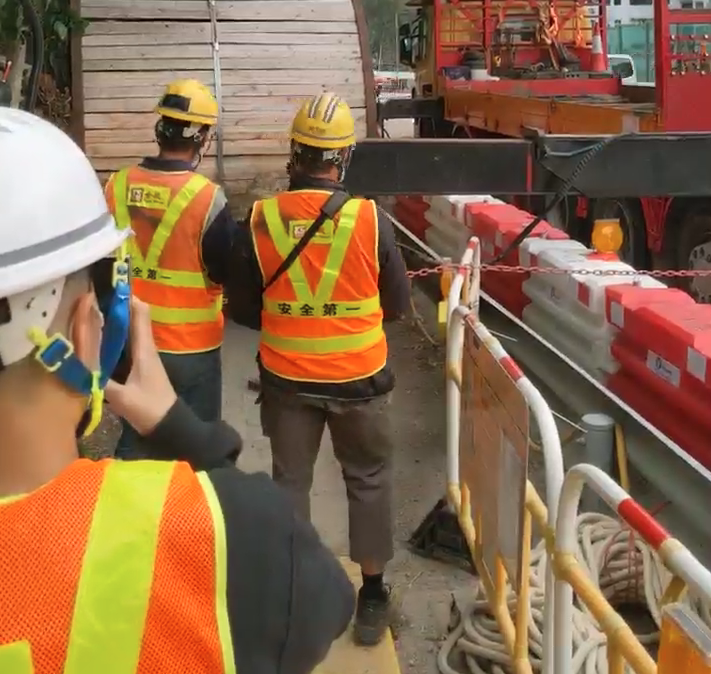Hard Hat: (3, 106, 132, 412), (289, 92, 356, 186), (150, 79, 220, 162)
Person: (251, 92, 405, 647)
Vest: (4, 355, 240, 655), (253, 146, 387, 384), (119, 133, 231, 352)
